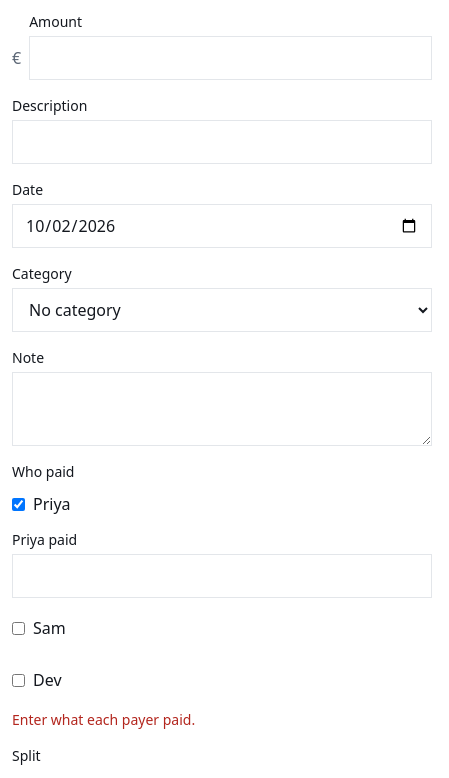
Test: the payer-sum line › starts with the first member in canonical order paying the whole thing
Expected: the checkbox labelled "Priya" is checked, [12, 498, 25, 510]
Expected: the checkbox labelled "Sam" is not checked, [12, 622, 25, 634]
Type "10" into the field labelled "Amount". click: point(231, 58)
box: [29, 36, 432, 80]
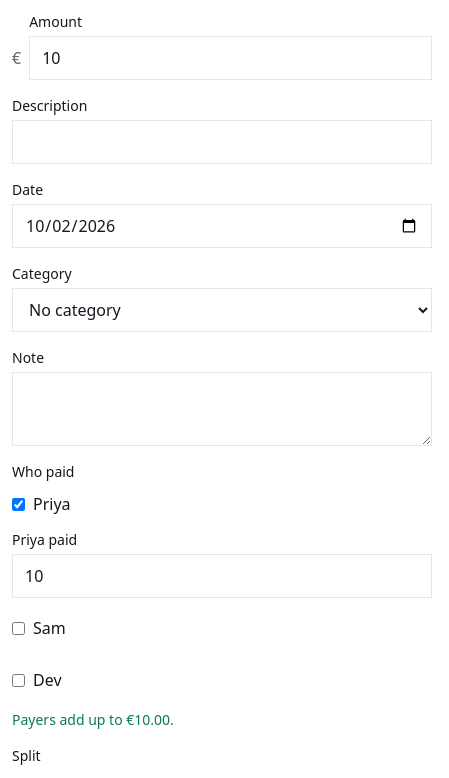
Expected: the field labelled "Priya paid" holds "10", [12, 554, 432, 598]
Expected: the text "Payers add up to €10.00." is shown, [12, 710, 174, 729]
